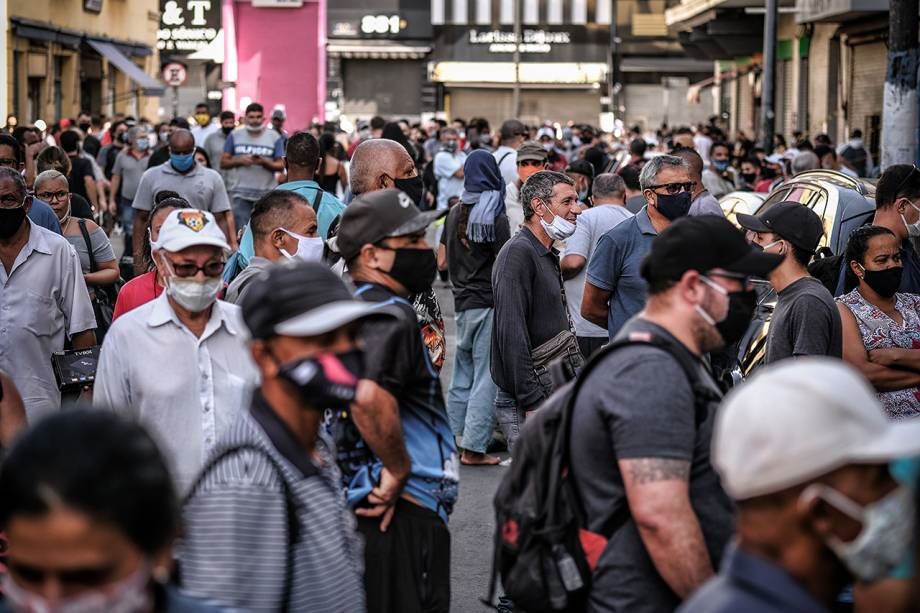mask_weared_incorrect: (523, 186, 585, 246)
